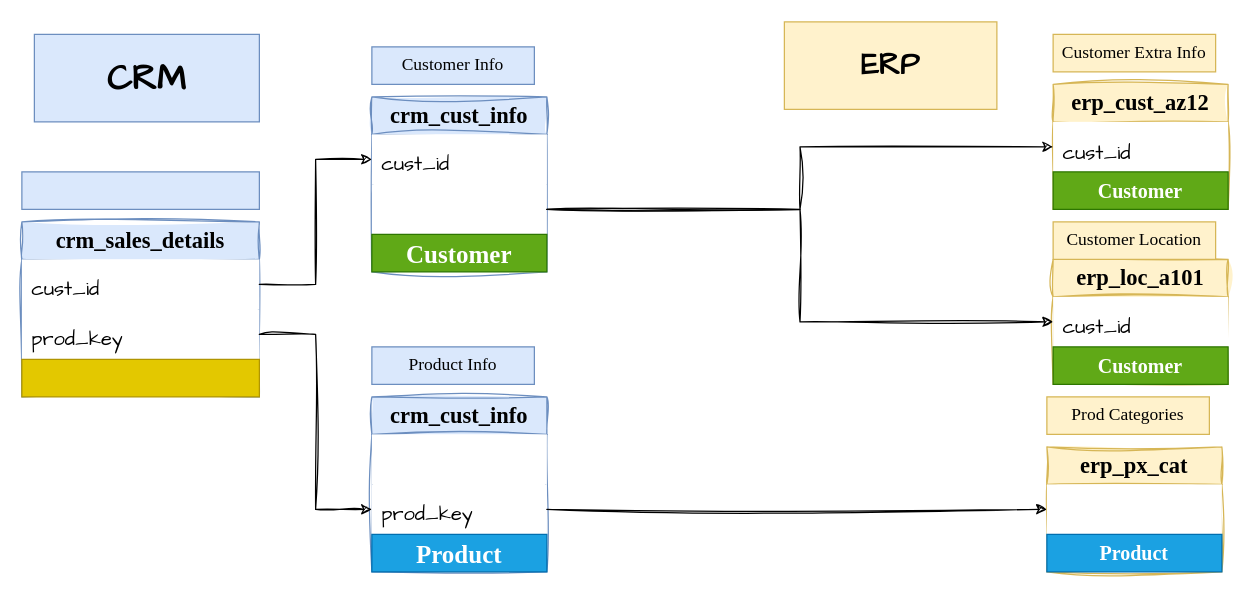
Some shapes in this 1250 by 611 pixel diagram are drawn without their labels. The shapes that lost their labels are listed below. From the top down, each one's centre as x and y in pixels, then its label:
At point 140,190: "Transactions details of Sales and Orders".
At point 458,209: "cust_key".
At point 140,377: "Sales".
At point 458,459: "prod_id".
At point 1133,509: "id".
